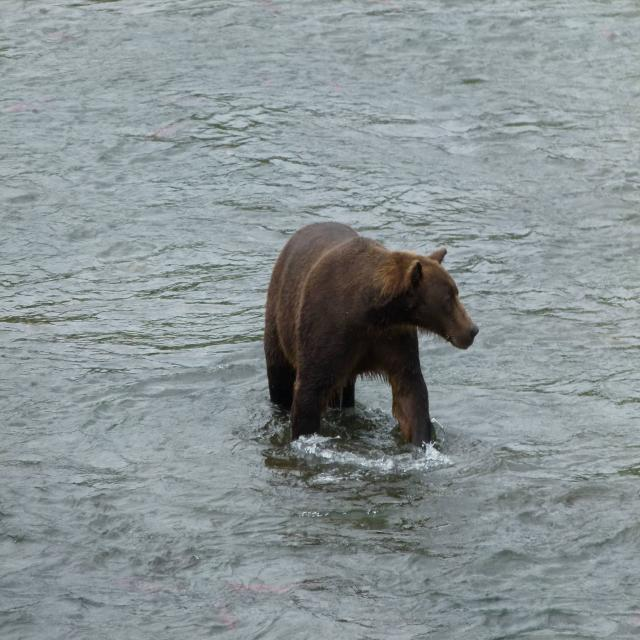bear face: (267, 221, 479, 439)
